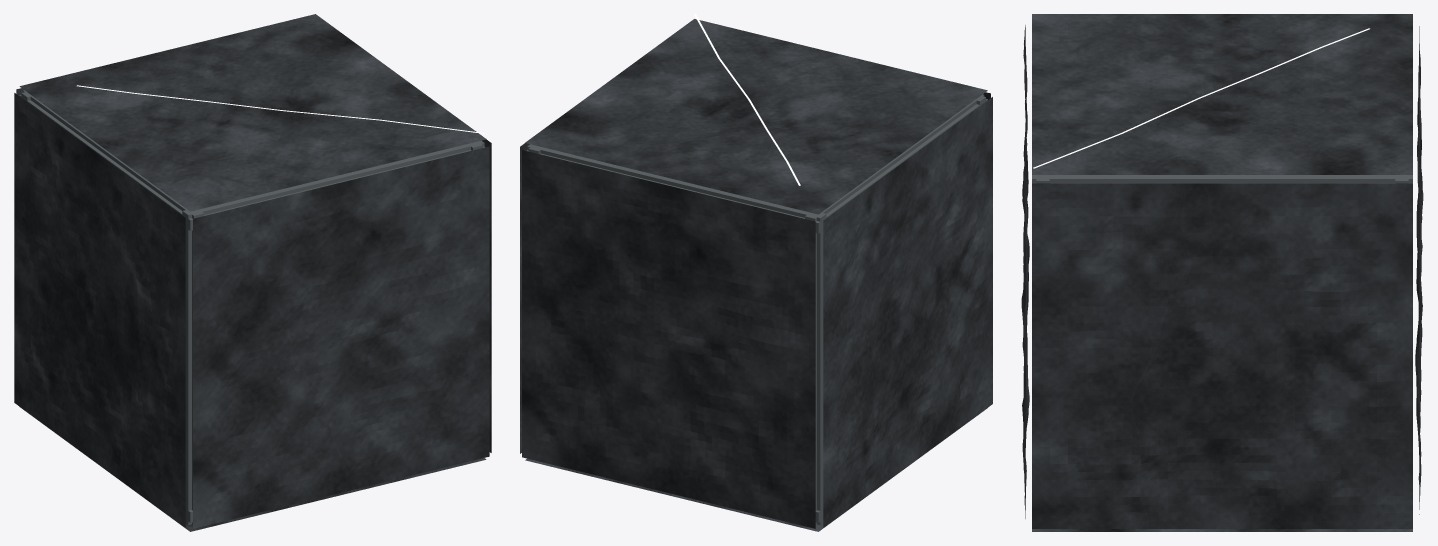
The model's file is stone-cube-pbr-v3.glb.
3 views of the same model, side by side, from view 1: azimuth 30°, elevation 25°; view 2: azimuth 150°, elevation 25°; view 3: azimuth 270°, elevation 25° (orthographic). The views are drawn at different scales.
Parts seen in each view (by area): view 1: stone_front, stone_left, stone_top, shell_front, shell_top, shell_left, stone_bottom, stone_right, seam_top; view 2: stone_back, stone_left, stone_top, shell_back, shell_left, shell_top, stone_bottom, stone_right; view 3: stone_right, stone_top, shell_right, stone_front, stone_back, stone_bottom, seam_top.
Part boxes in pixels (bbox=[...]): stone_front: bbox=[193, 146, 489, 528]; stone_left: bbox=[14, 93, 185, 527]; stone_top: bbox=[19, 14, 486, 211]; shell_front: bbox=[182, 140, 484, 524]; shell_top: bbox=[19, 95, 484, 230]; shell_left: bbox=[23, 90, 203, 524]; stone_bottom: bbox=[20, 407, 486, 531]; stone_right: bbox=[482, 139, 491, 452]; seam_top: bbox=[77, 85, 484, 133]; stone_back: bbox=[522, 150, 815, 528]; stone_left: bbox=[823, 97, 992, 527]; stone_top: bbox=[525, 19, 987, 214]; shell_back: bbox=[527, 144, 826, 525]; shell_left: bbox=[805, 94, 984, 524]; shell_top: bbox=[526, 99, 987, 233]; stone_bottom: bbox=[525, 408, 987, 531]; stone_right: bbox=[520, 143, 529, 453]; stone_right: bbox=[1032, 183, 1412, 528]; stone_top: bbox=[1032, 14, 1412, 174]; shell_right: bbox=[1032, 175, 1412, 182]; stone_front: bbox=[1021, 25, 1029, 518]; stone_back: bbox=[1415, 26, 1423, 514]; stone_bottom: bbox=[1032, 529, 1412, 531]; seam_top: bbox=[1033, 28, 1369, 168].
Bounding box in the file's own units: 2.07 × 2.08 × 2.07.
Materials: 10 (6 with a texture image).
